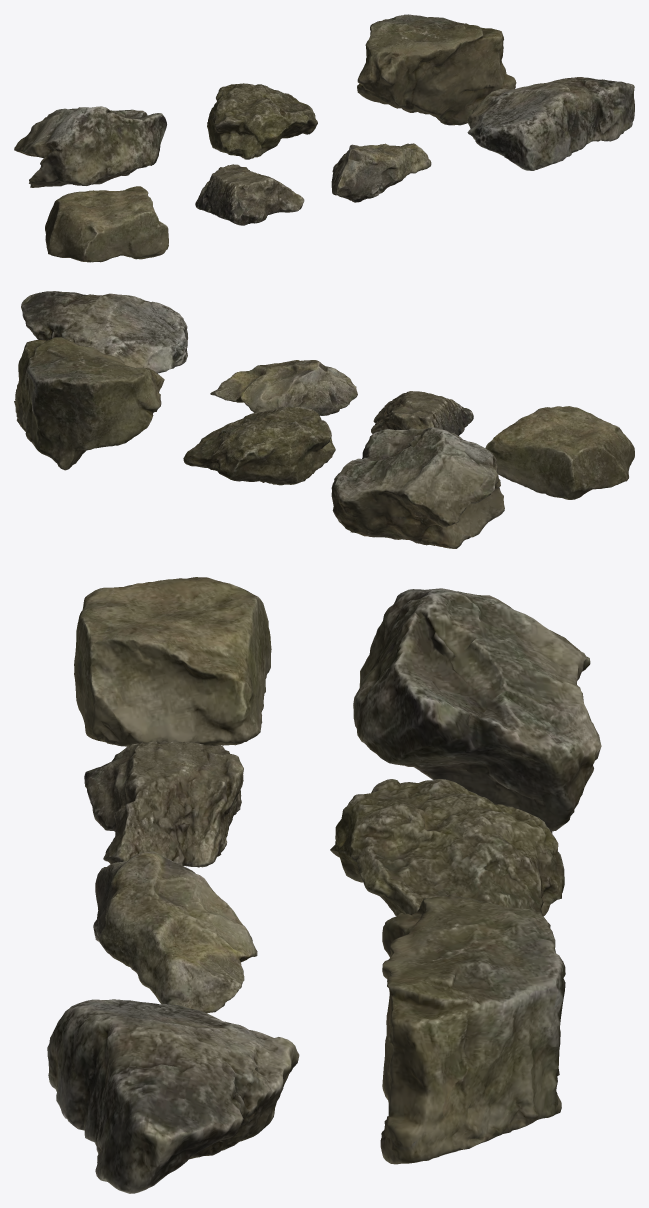
File: moss-rocks.glb
The picture shows the model from 3 angles, top to bottom: view 1: azimuth 30°, elevation 25°; view 2: azimuth 150°, elevation 25°; view 3: azimuth 270°, elevation 25°; orthographic projection. The views are drawn at different scales.
Visible parts, largest first — view 1: rock_moss_set_02_rock08; view 2: rock_moss_set_02_rock08; view 3: rock_moss_set_02_rock08.
Boxes of the visible parts, x1,y1,x2,y2 form: rock_moss_set_02_rock08: [14, 14, 634, 262]; rock_moss_set_02_rock08: [14, 291, 634, 548]; rock_moss_set_02_rock08: [47, 577, 601, 1193].
Bounding box in the file's own units: 8.28 × 1.37 × 3.41.
1 material, 1 textured.
